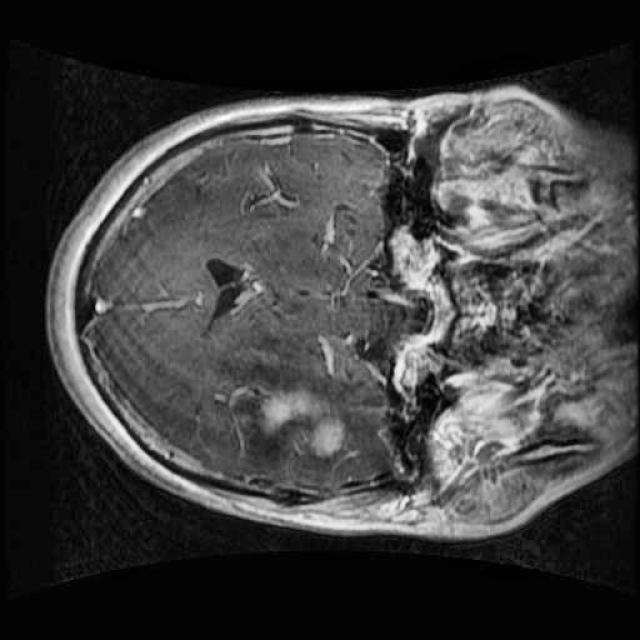Non-Tumor: (211, 350, 375, 508)
